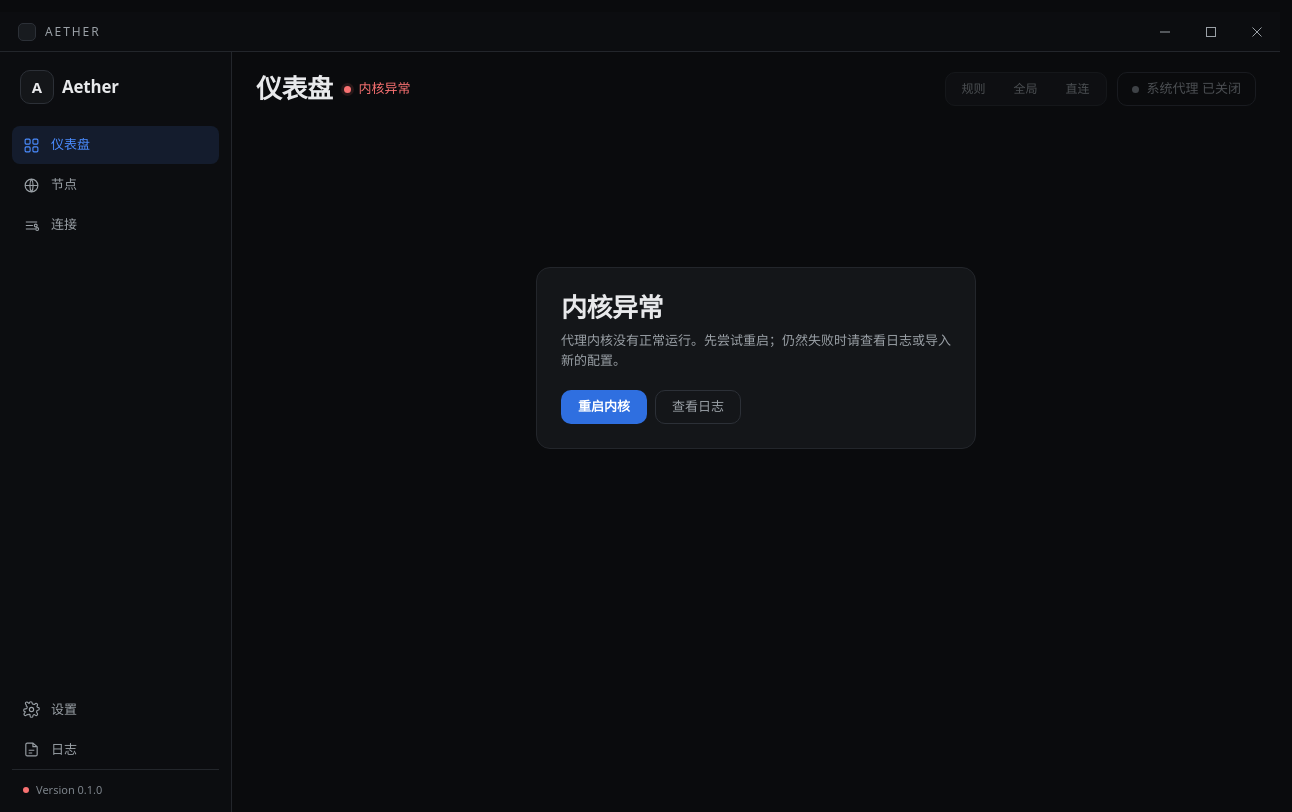
Test: App › 内核不可用时「查看日志」仍能进入日志页：状态面板只接管仪表盘
The image size is (1292, 812).
Expected: the heading "内核异常" is shown, left=561, top=289, right=663, bottom=325
Click the button "查看日志". click: click(698, 407)
box: left=655, top=390, right=741, bottom=424
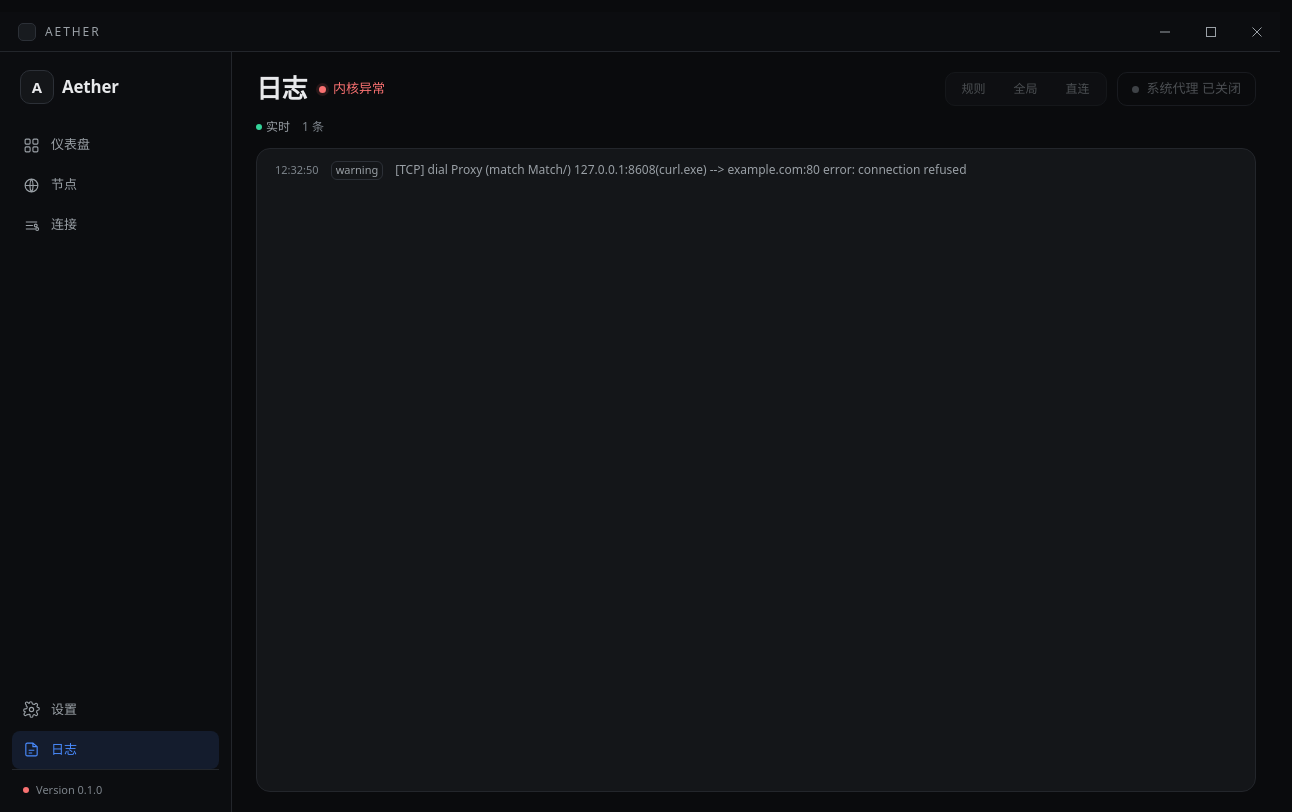
Now the text "[TCP] dial Proxy (match Match/) 127.0.0.1:8608(curl.exe) --> example.com:80 error: connection refused" is shown, box left=395, top=161, right=966, bottom=178
Now the text "代理内核没有正常运行。先尝试重启；仍然失败时请查看日志或导入新的配置。" is gone
